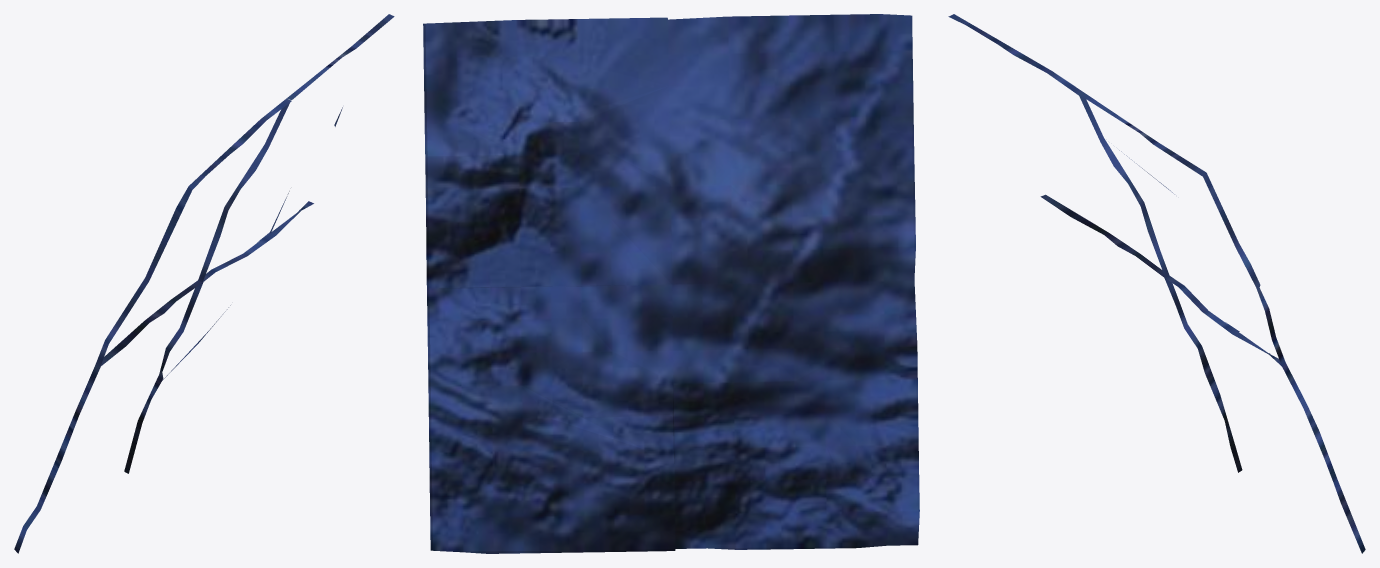
3 views of the same model, side by side, from view 1: azimuth 30°, elevation 25°; view 2: azimuth 150°, elevation 25°; view 3: azimuth 270°, elevation 25° (orthographic). The views are drawn at different scales.
Size of the model in its own units: 38813 by 36779 by 32620.
Materials: 1 (1 with a texture image).
